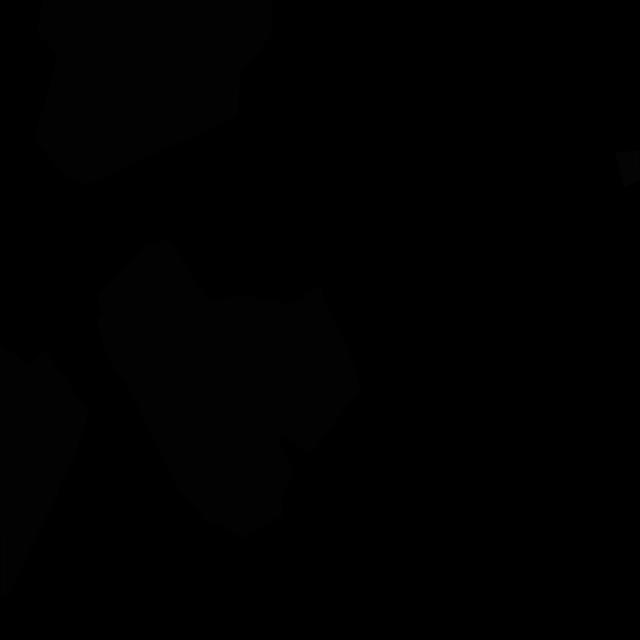cardboard: (95, 238, 360, 539), (34, 0, 272, 185), (0, 343, 89, 599)
soft_plastic: (615, 150, 640, 186)
